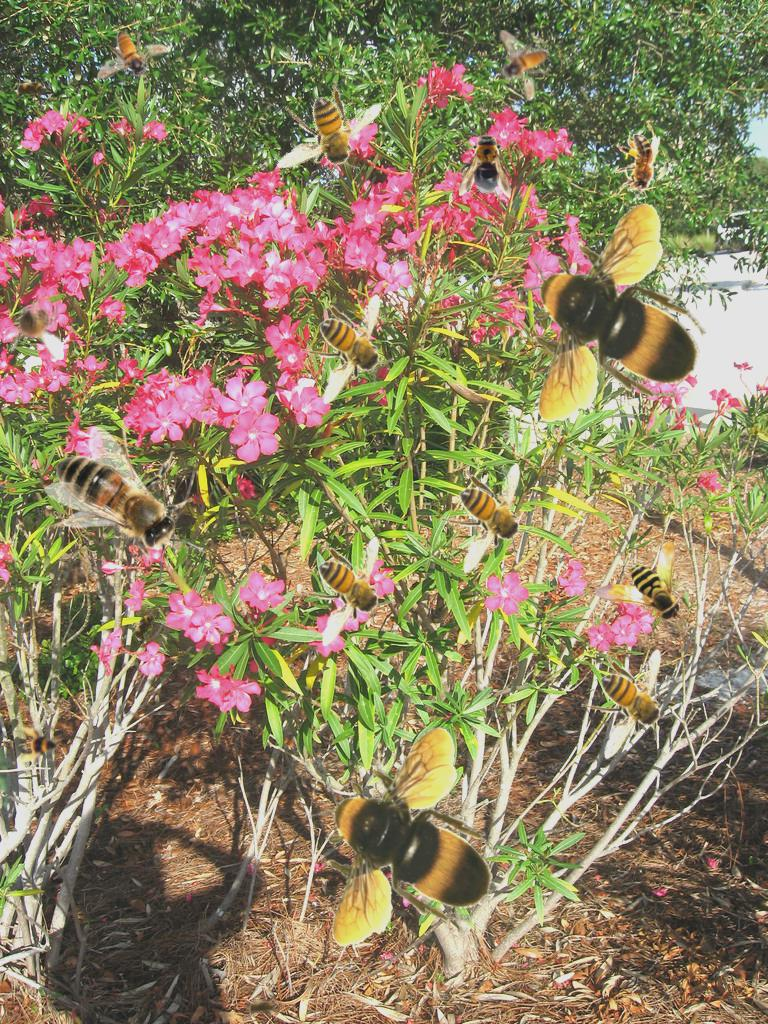Bee: (309, 726, 500, 946), (515, 202, 706, 422), (44, 418, 206, 585), (255, 61, 396, 207), (300, 294, 394, 405), (299, 536, 393, 647), (581, 649, 675, 760), (440, 463, 534, 574), (594, 541, 682, 623), (3, 290, 64, 360), (97, 30, 168, 80), (499, 30, 549, 101), (459, 130, 511, 198), (615, 134, 660, 200), (18, 725, 62, 769), (124, 604, 166, 650), (11, 79, 51, 101), (242, 997, 282, 1019)
